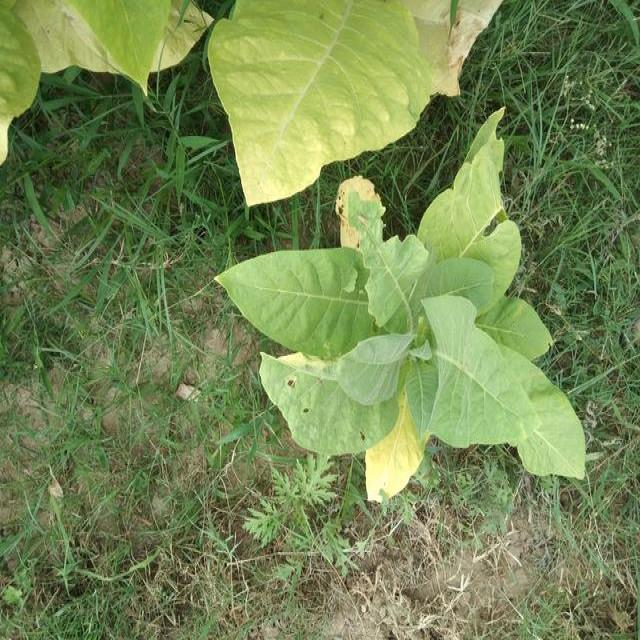crop: (229, 131, 596, 505)
